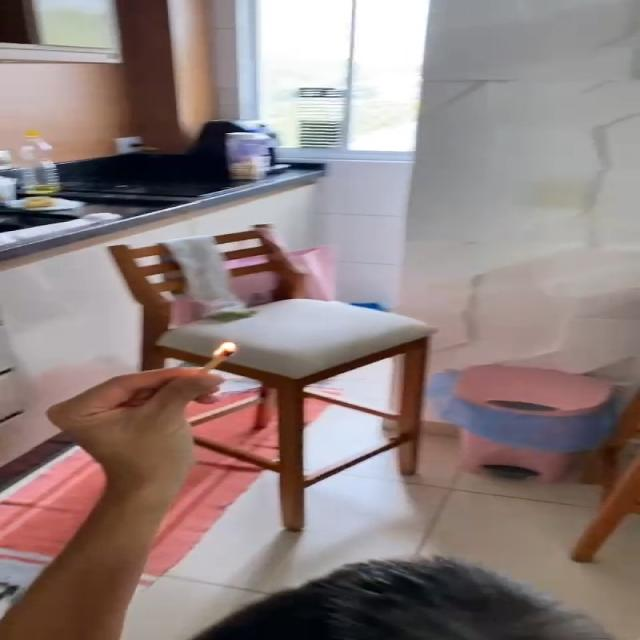fogo-ypXI: (211, 341, 238, 358)
